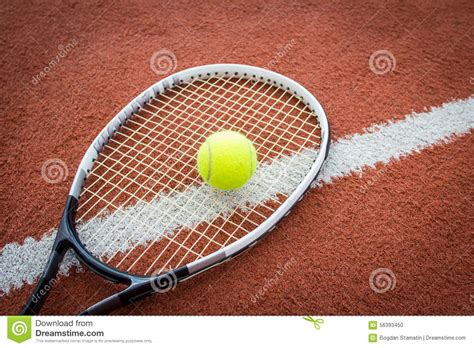tennis_ball: (197, 130, 257, 191)
